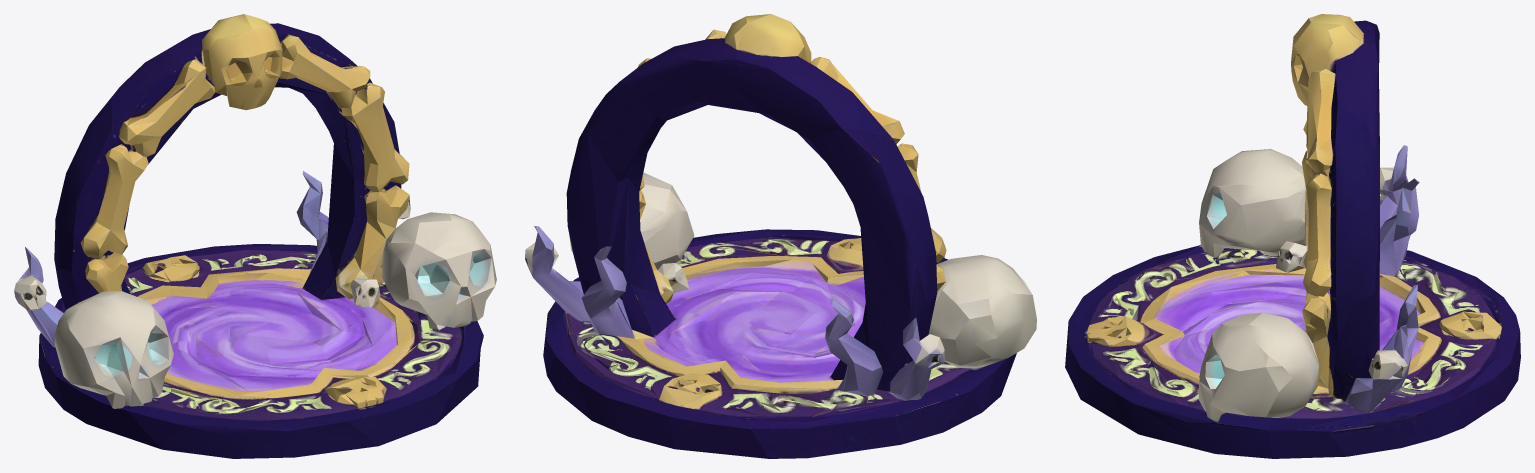
File: portal_skeletons.glb
3 views of the same model, side by side, from view 1: azimuth 30°, elevation 25°; view 2: azimuth 150°, elevation 25°; view 3: azimuth 270°, elevation 25° (orthographic). The views are drawn at different scales.
Bounding box in the file's own units: 1.9 × 1.44 × 1.72.
1 material, 1 textured.
